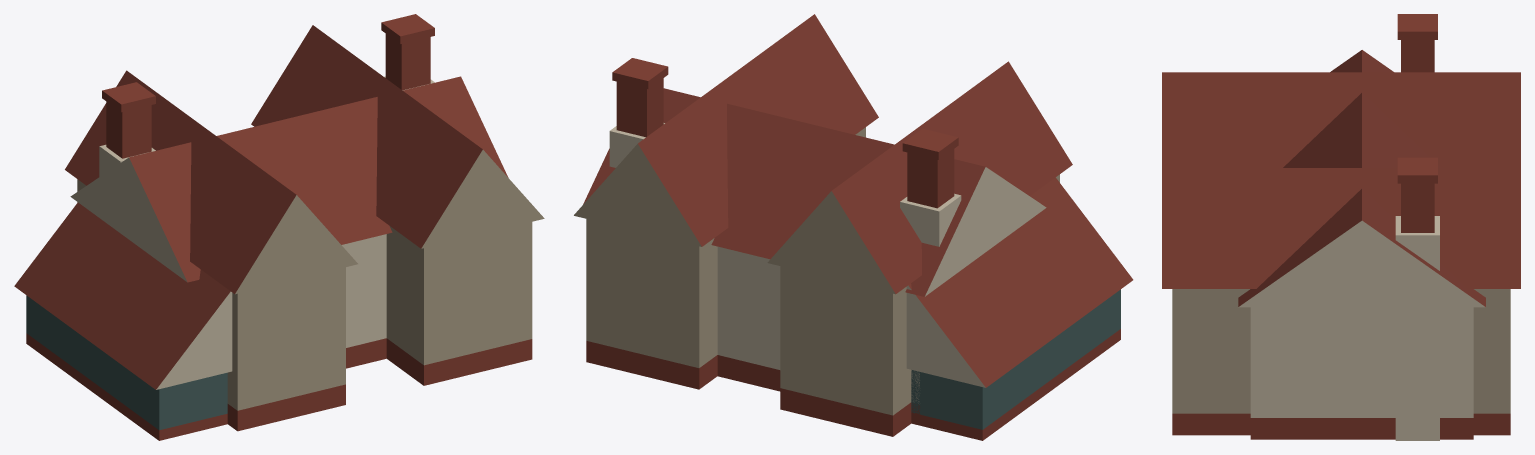
File: test-hudec-topology-c-massing.glb
The picture shows the model from 3 angles, left to right: view 1: azimuth 30°, elevation 25°; view 2: azimuth 150°, elevation 25°; view 3: azimuth 270°, elevation 25°; orthographic projection. The views are drawn at different scales.
Visible parts, largest first — view 1: test-hudec-topology-c-massing; view 2: test-hudec-topology-c-massing; view 3: test-hudec-topology-c-massing.
Boxes of the visible parts, x1,y1,x2,y2 form: test-hudec-topology-c-massing: (14, 14, 544, 440); test-hudec-topology-c-massing: (574, 14, 1133, 440); test-hudec-topology-c-massing: (1162, 14, 1520, 440).
Size of the model in its own units: 11.5 by 7.08 by 8.7.
